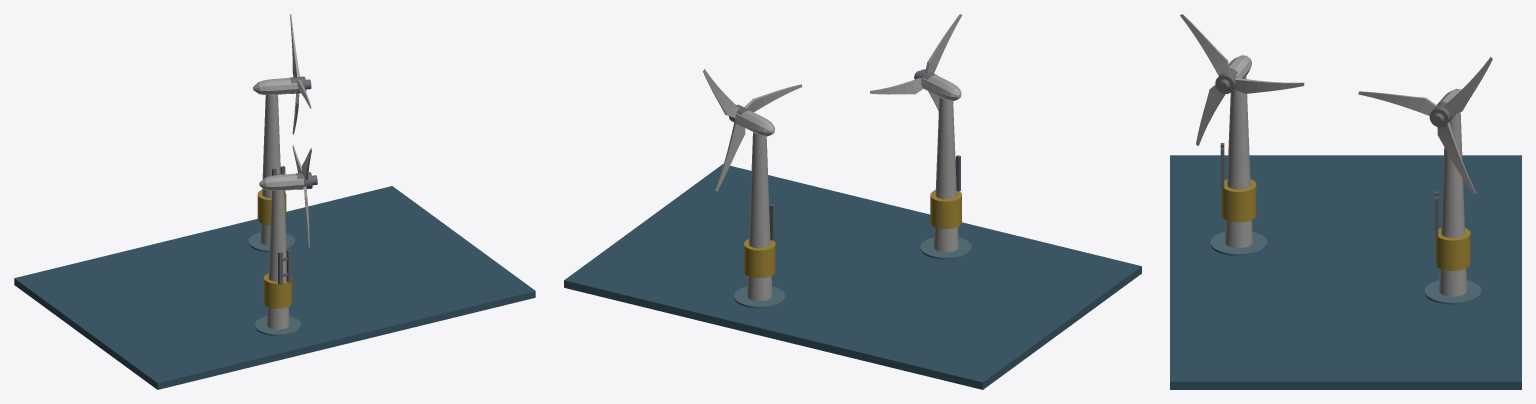
Rendered from offshore_wind_farm_lvl1.glb.
3 renders of one model, left to right at view 1: azimuth 30°, elevation 25°; view 2: azimuth 150°, elevation 25°; view 3: azimuth 270°, elevation 25°, orthographic. The views are drawn at different scales.
Parts seen in each view (by area): view 1: offshore_wind_farm; view 2: offshore_wind_farm; view 3: offshore_wind_farm.
Part boxes in pixels (x1,y1,x2,y2): offshore_wind_farm: [14, 14, 535, 389]; offshore_wind_farm: [564, 14, 1141, 389]; offshore_wind_farm: [1170, 14, 1521, 389].
Size of the model in its own units: 1 by 0.5456 by 0.6571.
